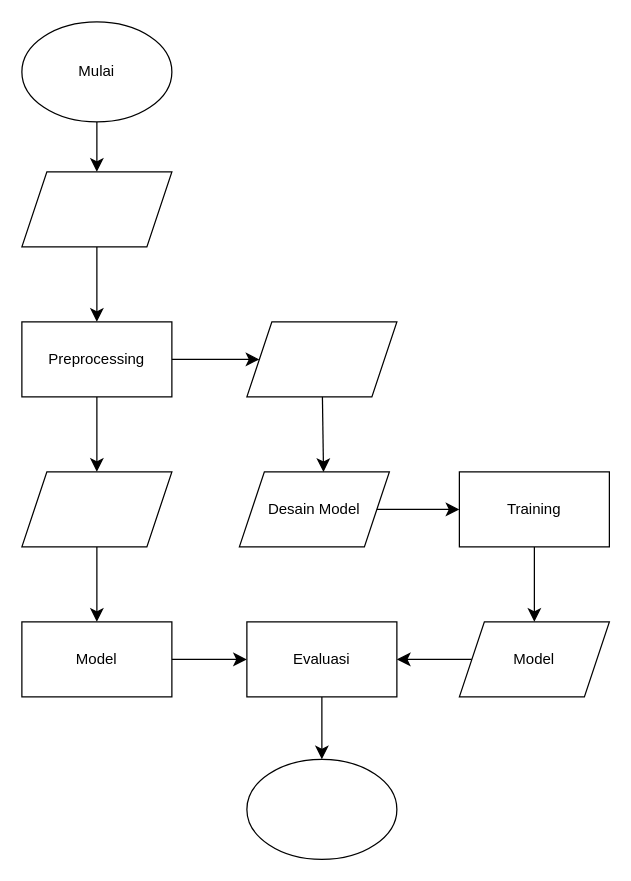
This 631x881 diagram has some shape labels left out. Here are the shapes that lost their labels. From the top down, the centre of each, then its label:
pixel 96 209: Dataset
pixel 321 359: Training Data
pixel 96 509: Testing Data
pixel 321 808: Selessai
